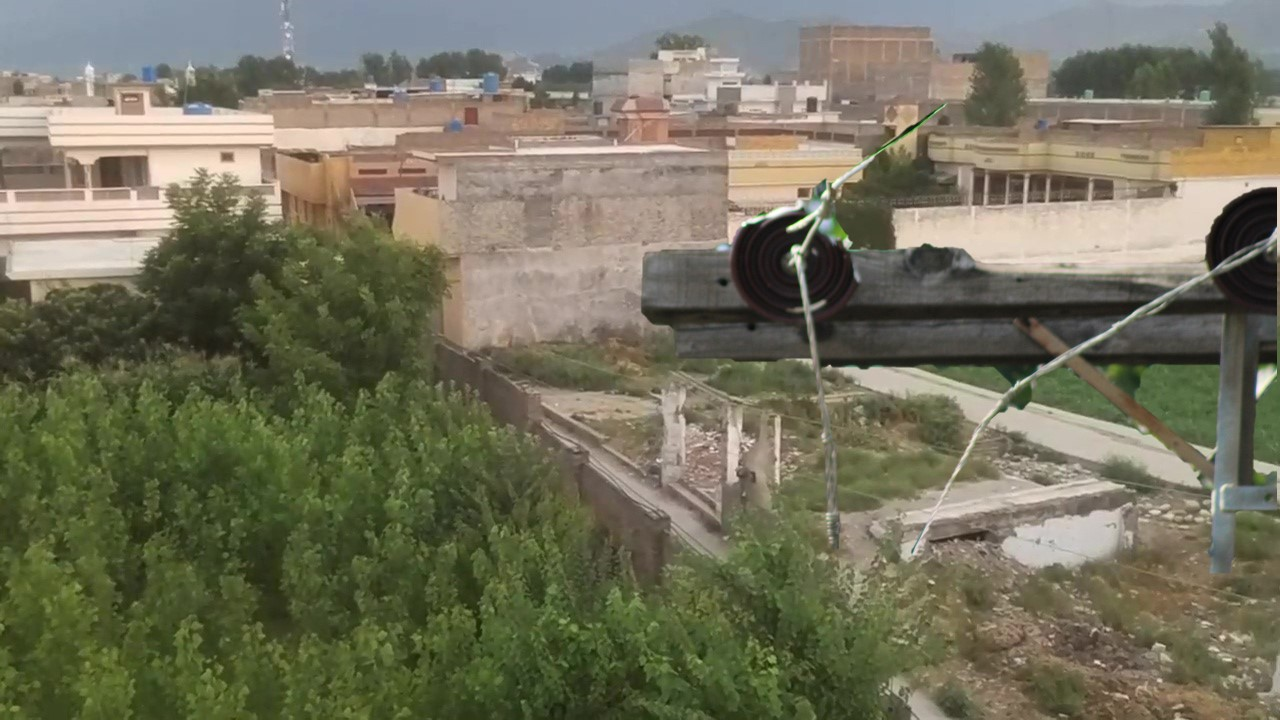defect_disc: (729, 195, 871, 337)
